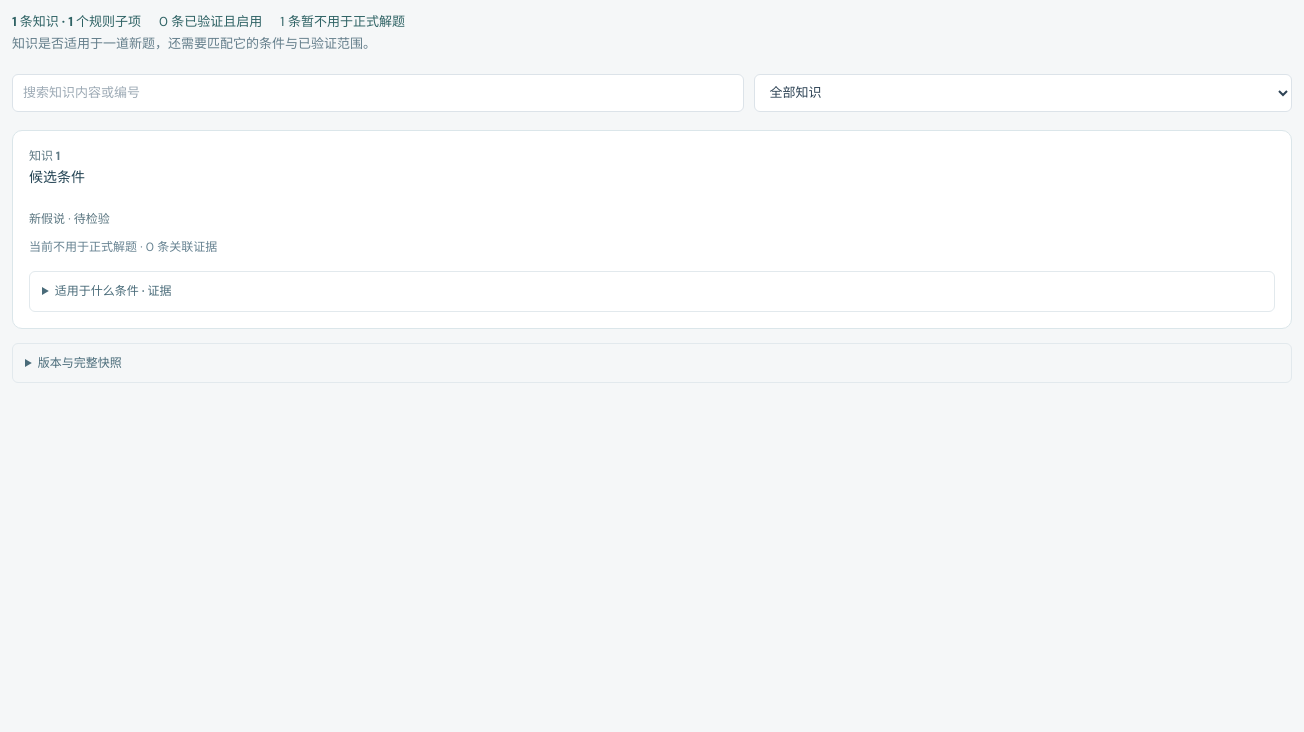
Test: preserves all/any/not logic and negative membership with control conditions
This screenshot has width=1304, height=732.
Click the heading "适用于什么条件 · 证据": (113, 291) [55,283,171,299]
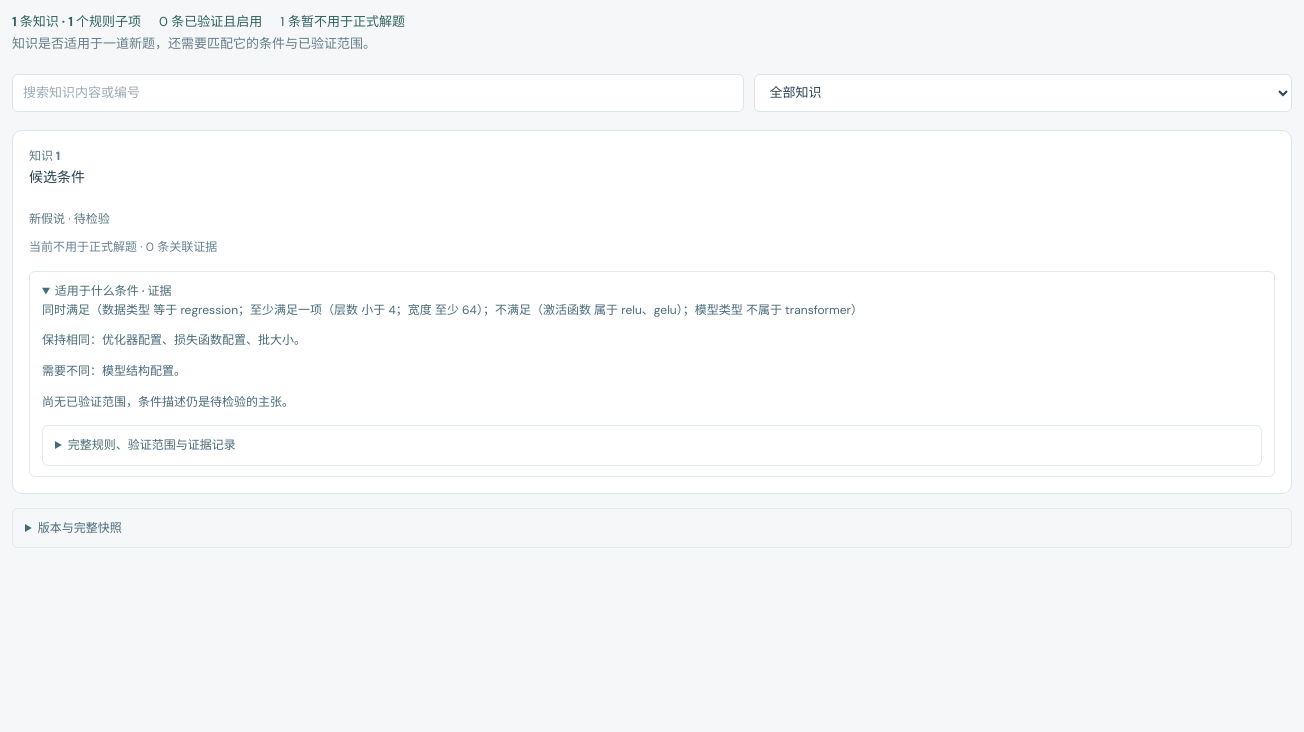
Check: the text "保持相同：优化器配置、损失函数配置、批大小。" is shown, box [42,332,306,348]
Check: the text "需要不同：模型结构配置。" is shown, box [42,363,186,379]
